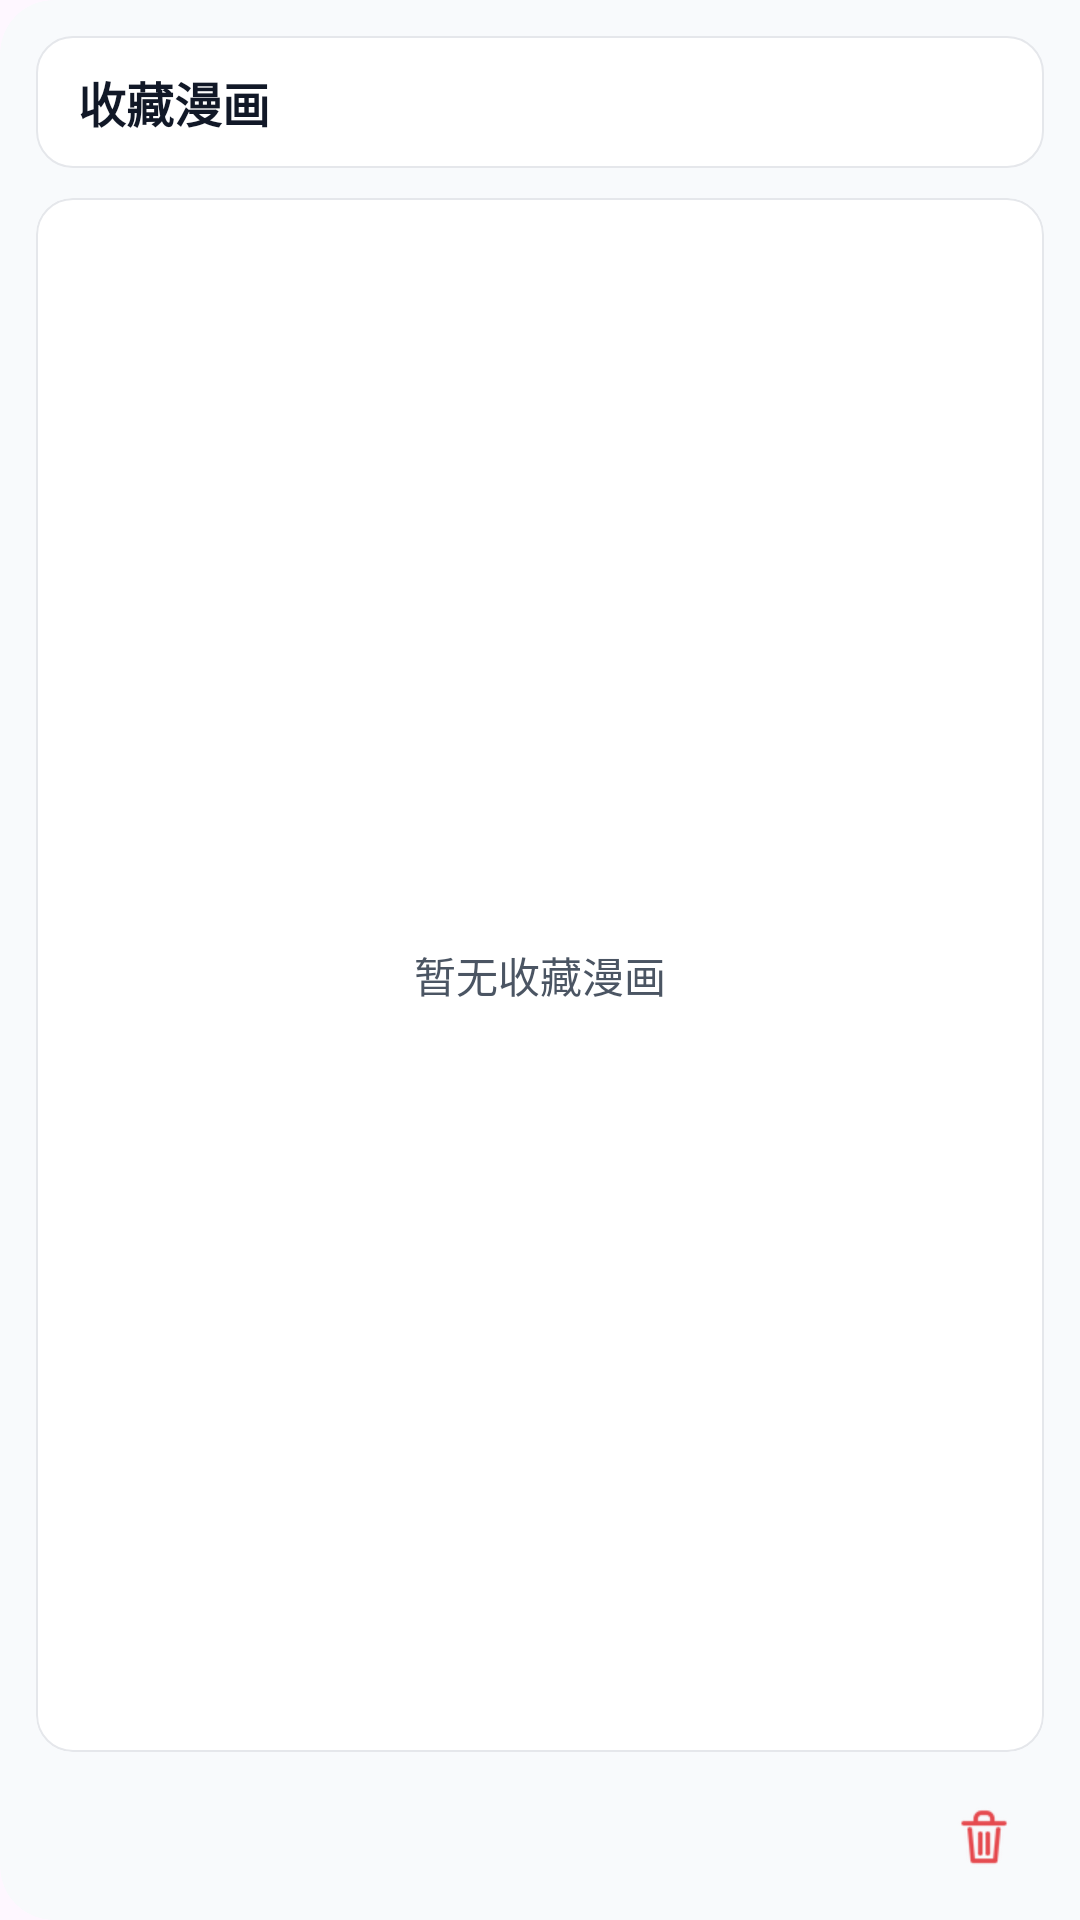

Icons on this 1080px x 1920px Android screen, each with its box as (x1, y1, x2, y2):
清空: (961, 1810, 1007, 1864)
